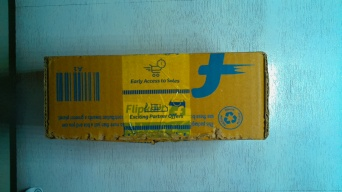a: (42, 48, 275, 142)
